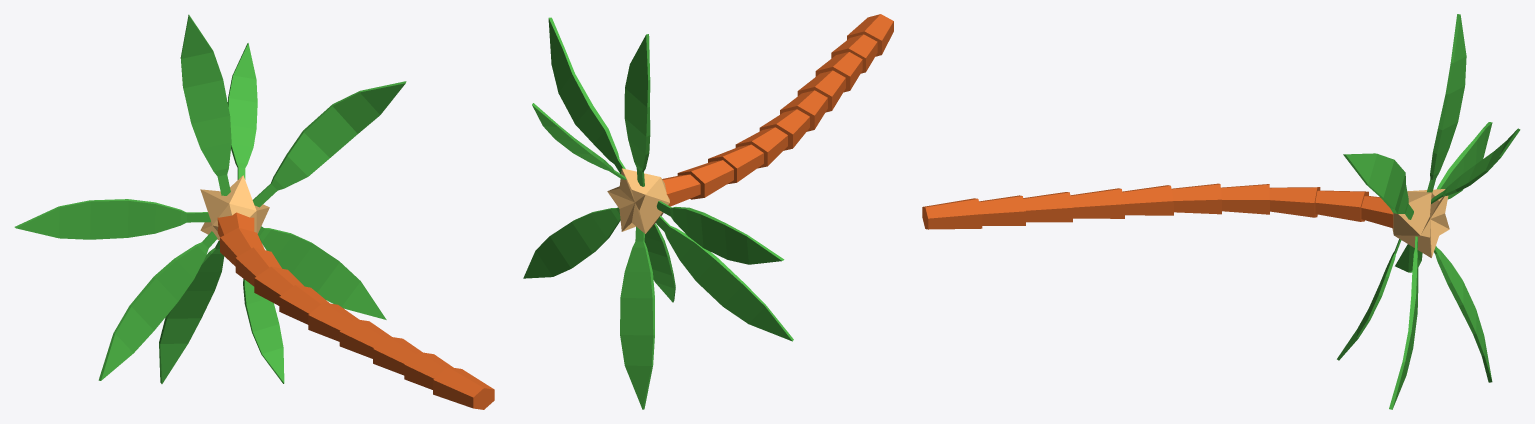
File: Palma_Modelo.fbx
3 renders of one model, left to right at view 1: azimuth 30°, elevation 25°; view 2: azimuth 150°, elevation 25°; view 3: azimuth 270°, elevation 25°, orthographic. The views are drawn at different scales.
Visible parts, largest first — view 1: Palmtree; view 2: Palmtree; view 3: Palmtree.
Part boxes in pixels (box(x1,y1,x2,y2)): Palmtree: box(14, 14, 494, 409); Palmtree: box(523, 14, 893, 409); Palmtree: box(922, 14, 1520, 409).
Bounding box in the file's own units: 943 × 1059 × 1533.
